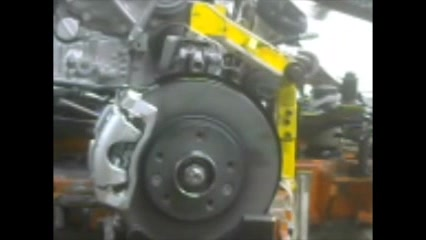DD3: (152, 74, 282, 216)
P3: (85, 85, 158, 213)
